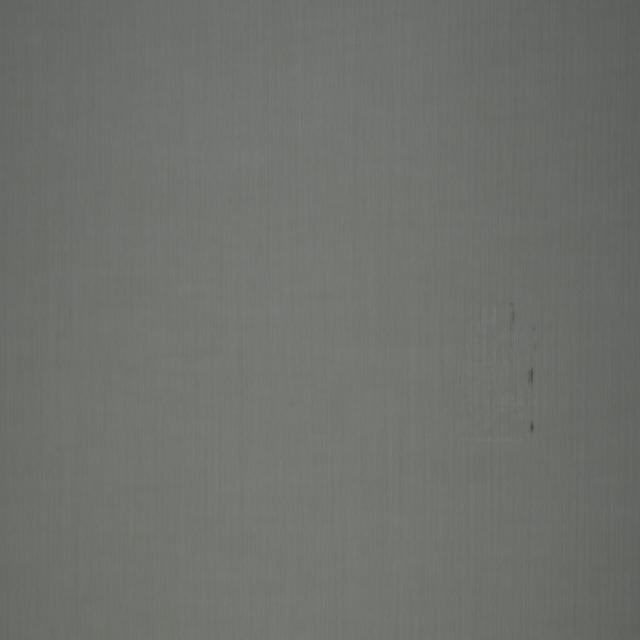dirty: (508, 301, 516, 331), (527, 365, 535, 384), (529, 421, 536, 433)
